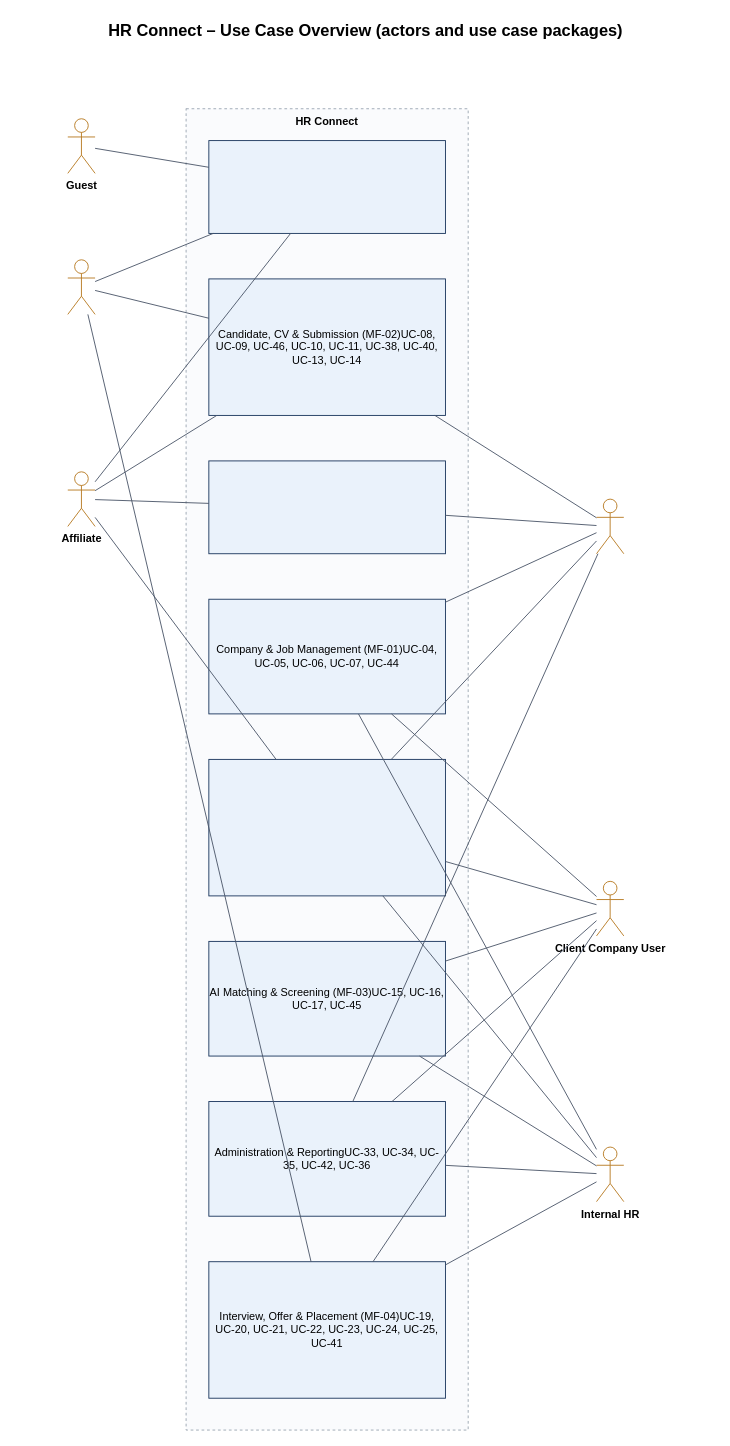
Image size: 730x1446. Some labels were removed from this diagram. The shapes that lost their labels are listed below. From the top down, each one's centre as x and y in pixels, then its label:
pixel 326 186: Public & AuthenticationUC-01, UC-02, UC-37, UC-03
pixel 81 286: Candidate
pixel 326 507: Affiliate ManagementUC-28, UC-39, UC-29, UC-30
pixel 610 526: Platform Admin
pixel 326 827: Warranty, Fee, Commission & Payout (MF-05)UC-27, UC-43, UC-32, UC-31
